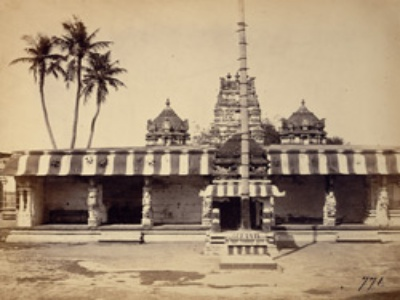mandapa: (189, 175, 291, 244)
